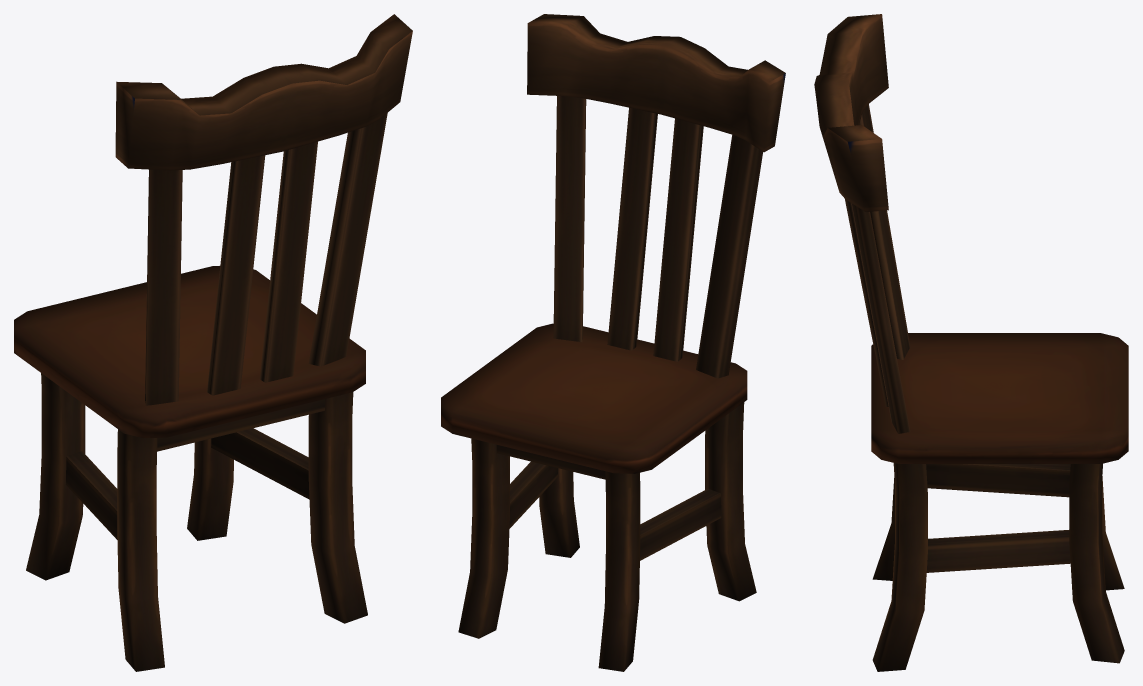
The model's file is Chair_C.fbx.
3 renders of one model, left to right at view 1: azimuth 30°, elevation 25°; view 2: azimuth 150°, elevation 25°; view 3: azimuth 270°, elevation 25°, orthographic. The views are drawn at different scales.
Visible parts, largest first — view 1: Chair_Backing_C, Chair_Legs_A, Chair_Base_A, Chair_Legs_A_Support; view 2: Chair_Backing_C, Chair_Base_A, Chair_Legs_A, Chair_Legs_A_Support; view 3: Chair_Base_A, Chair_Backing_C, Chair_Legs_A, Chair_Legs_A_Support.
Boxes of the visible parts, <box> form: Chair_Backing_C: <box>115,14,412,405</box>; Chair_Legs_A: <box>26,373,367,671</box>; Chair_Base_A: <box>14,266,365,438</box>; Chair_Legs_A_Support: <box>66,399,324,539</box>; Chair_Backing_C: <box>527,14,785,378</box>; Chair_Base_A: <box>441,323,747,473</box>; Chair_Legs_A: <box>458,402,756,671</box>; Chair_Legs_A_Support: <box>496,445,721,560</box>; Chair_Base_A: <box>871,333,1128,463</box>; Chair_Backing_C: <box>814,14,910,433</box>; Chair_Legs_A: <box>872,463,1124,671</box>; Chair_Legs_A_Support: <box>926,464,1070,572</box>.
Size of the model in its own units: 5.66 by 11.54 by 6.01.
